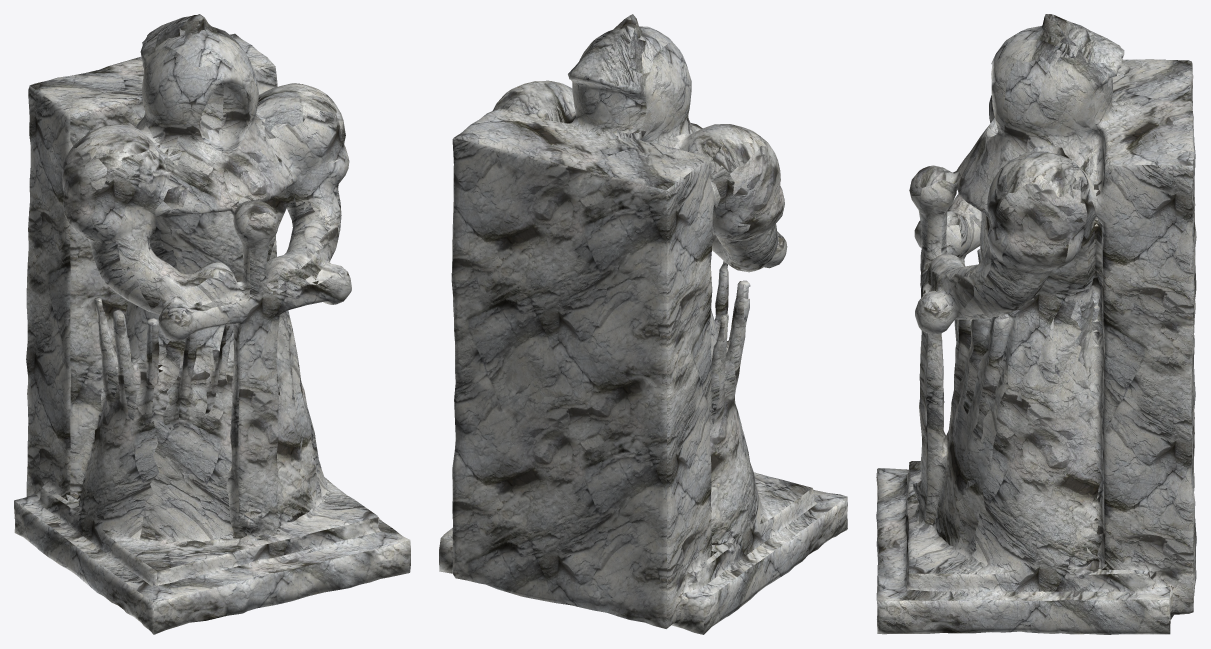
The model's file is warden_colossus.glb.
3 renders of one model, left to right at view 1: azimuth 30°, elevation 25°; view 2: azimuth 150°, elevation 25°; view 3: azimuth 270°, elevation 25°, orthographic. The views are drawn at different scales.
Parts seen in each view (by area): view 1: WardenColossus; view 2: WardenColossus; view 3: WardenColossus.
Part boxes in pixels (x1=…): WardenColossus: x1=14, y1=14, x2=410, y2=634; WardenColossus: x1=439, y1=14, x2=847, y2=634; WardenColossus: x1=876, y1=14, x2=1196, y2=634.
Bounding box in the file's own units: 5.41 × 10.12 × 5.28.
1 material, 1 textured.
